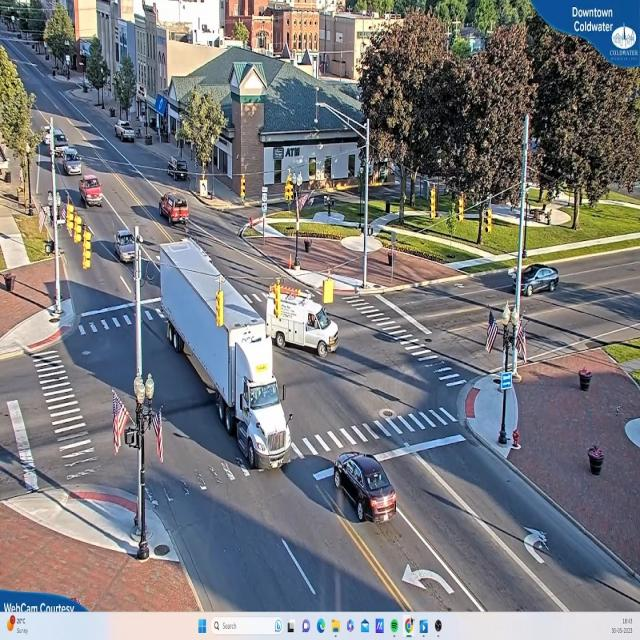car: (334, 451, 402, 525), (506, 267, 569, 298), (161, 193, 192, 225), (80, 175, 104, 207), (116, 230, 138, 262), (117, 121, 138, 143)
truck: (214, 319, 292, 475), (268, 282, 342, 358)
